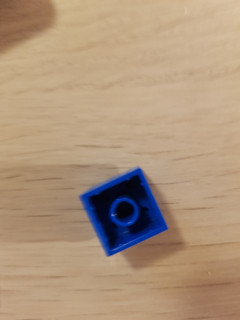2x2 blue: (73, 162, 171, 261)
